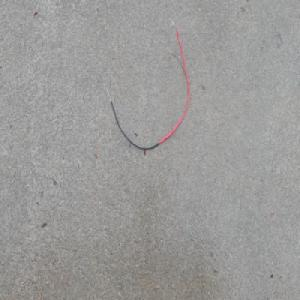Wire: (104, 13, 190, 153)
